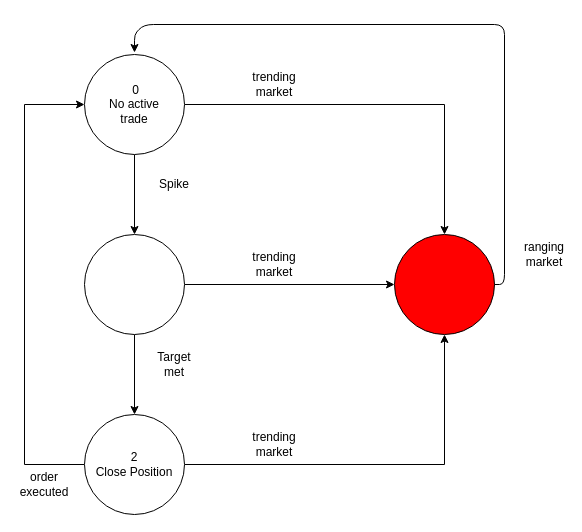
Some shapes in this 582 by 532 pixel diagram are drawn without their labels. The shapes that lost their labels are listed below. From the top down, each one's centre as x and y in pixels, then its label:
point (134, 284): 1 Active trade
point (444, 284): 3 Position liquidation
